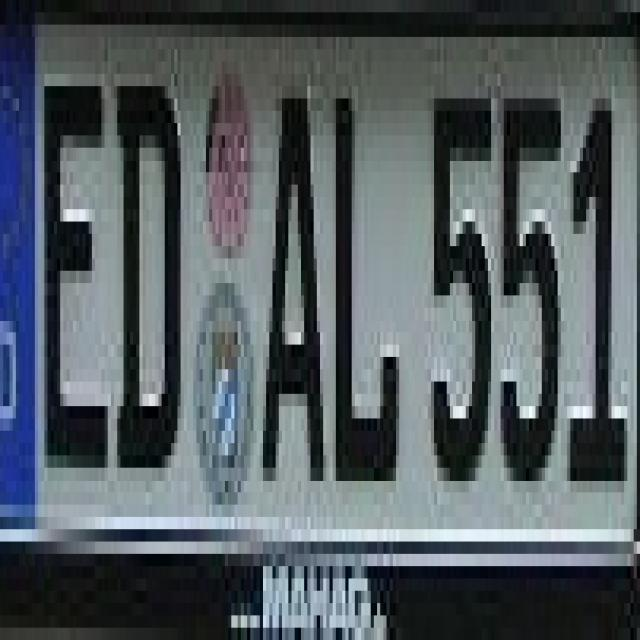1: (567, 80, 627, 486)
5: (428, 74, 494, 480), (499, 80, 562, 486)
A: (261, 80, 325, 486)
D: (112, 62, 186, 480)
E: (40, 55, 109, 474)
L: (331, 86, 401, 480)
